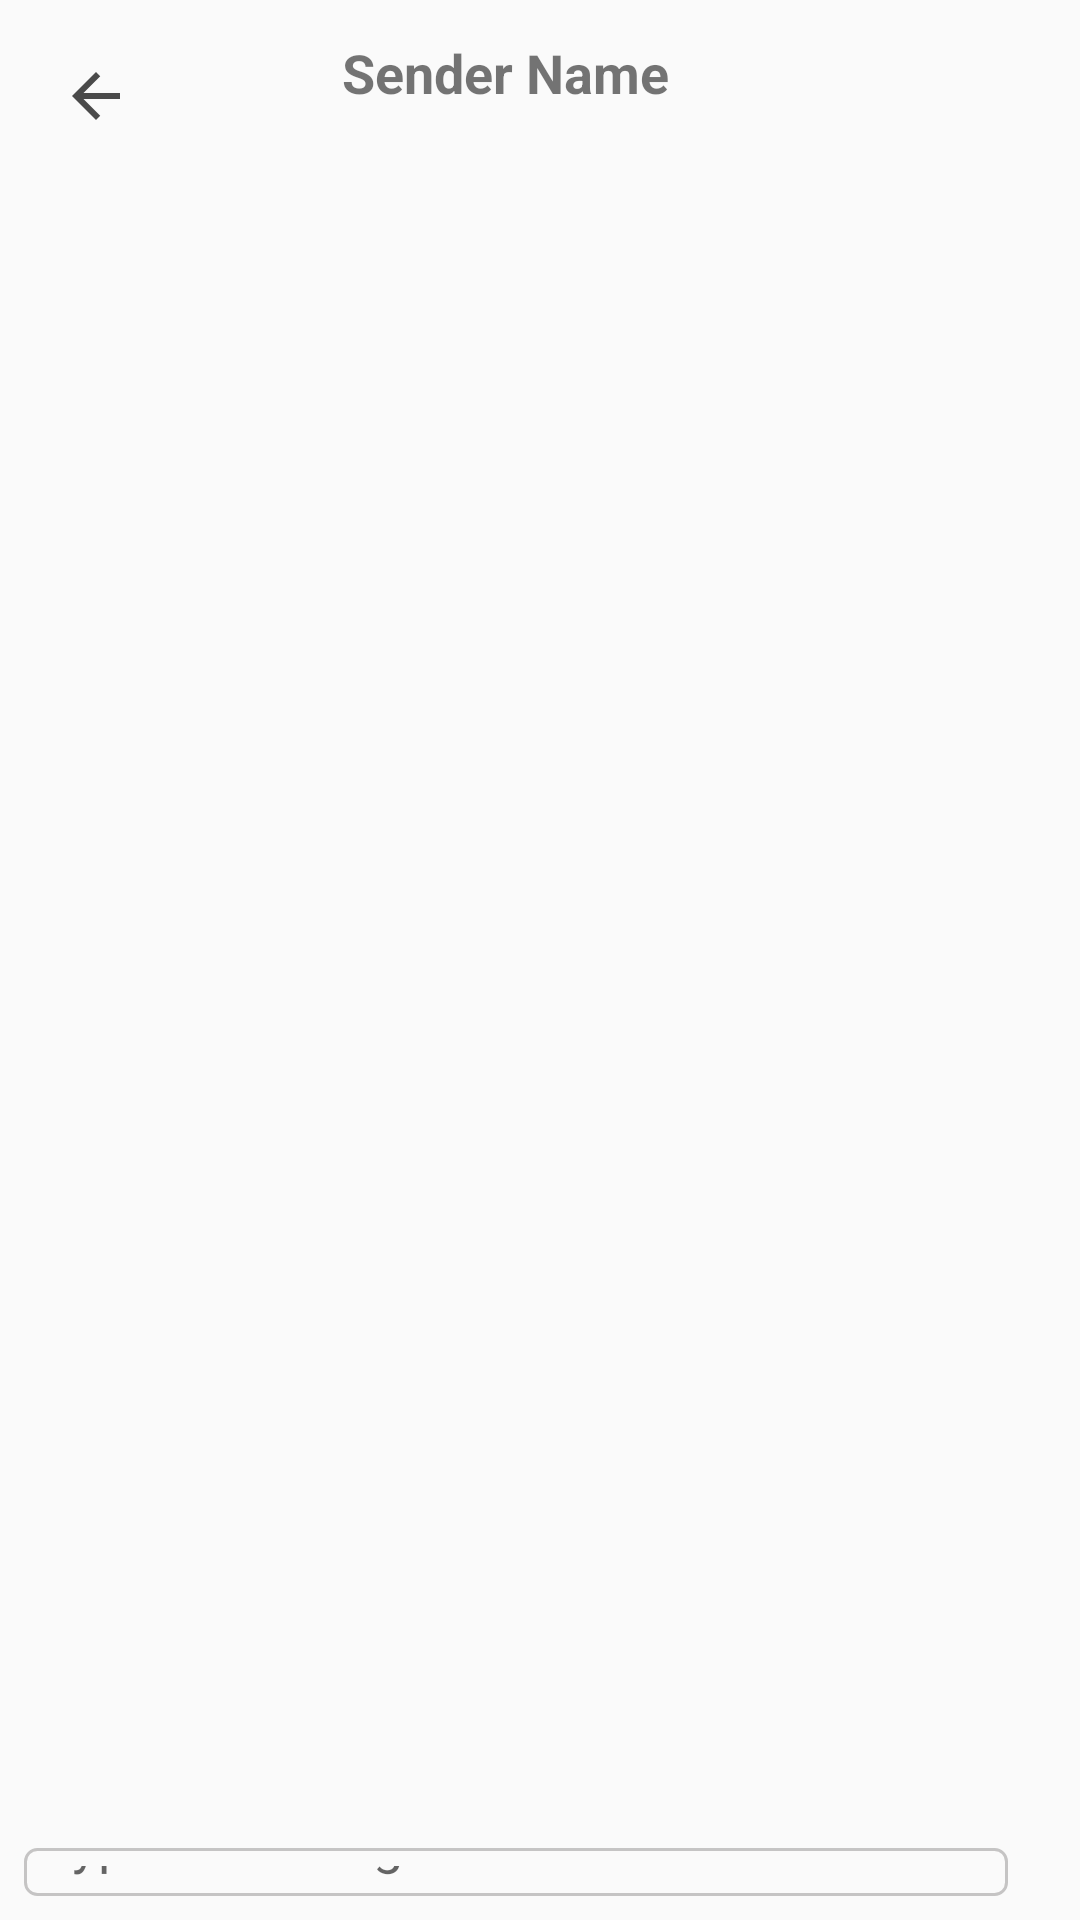

Where to tap for icons on this 1080*1920 app screen, as (x,y):
Back Button: (96,96)
